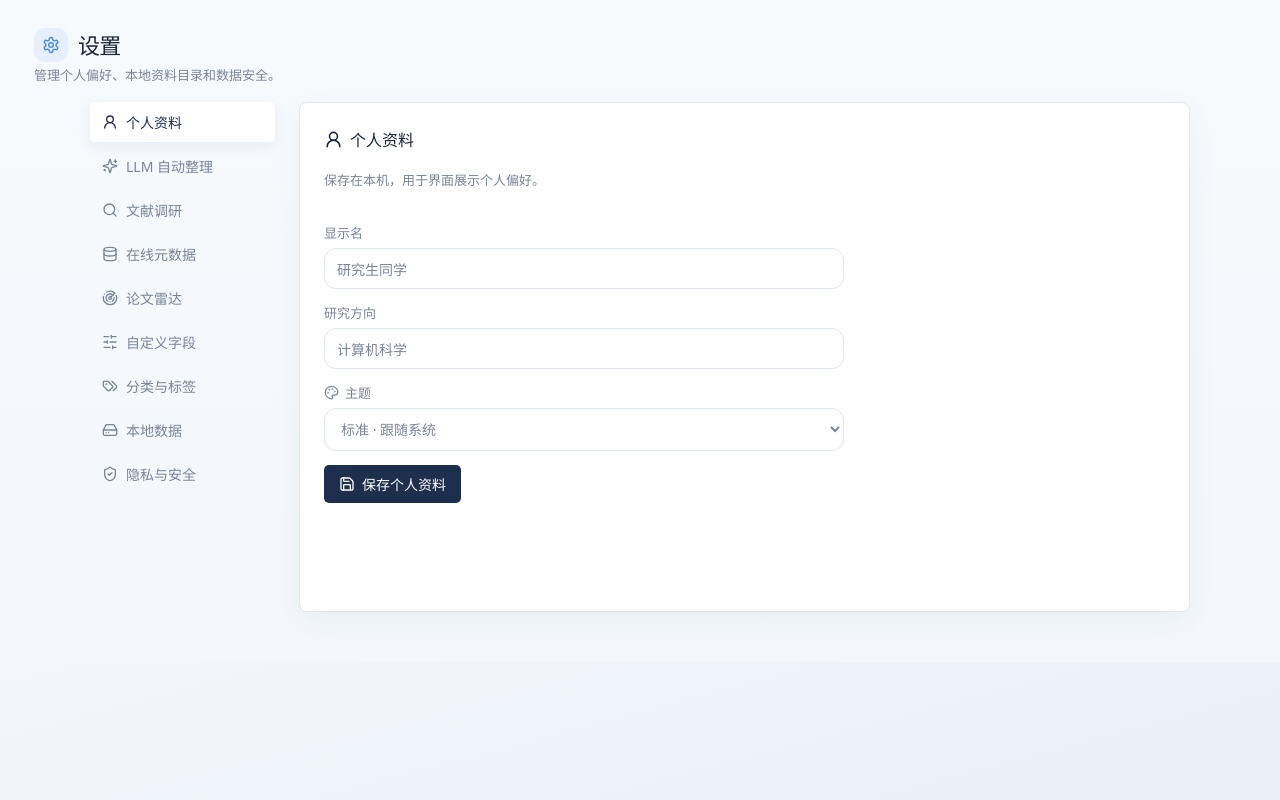
data settings errors › shows a restore error
Click the button "本地数据": (182, 430) [90,410,275,450]
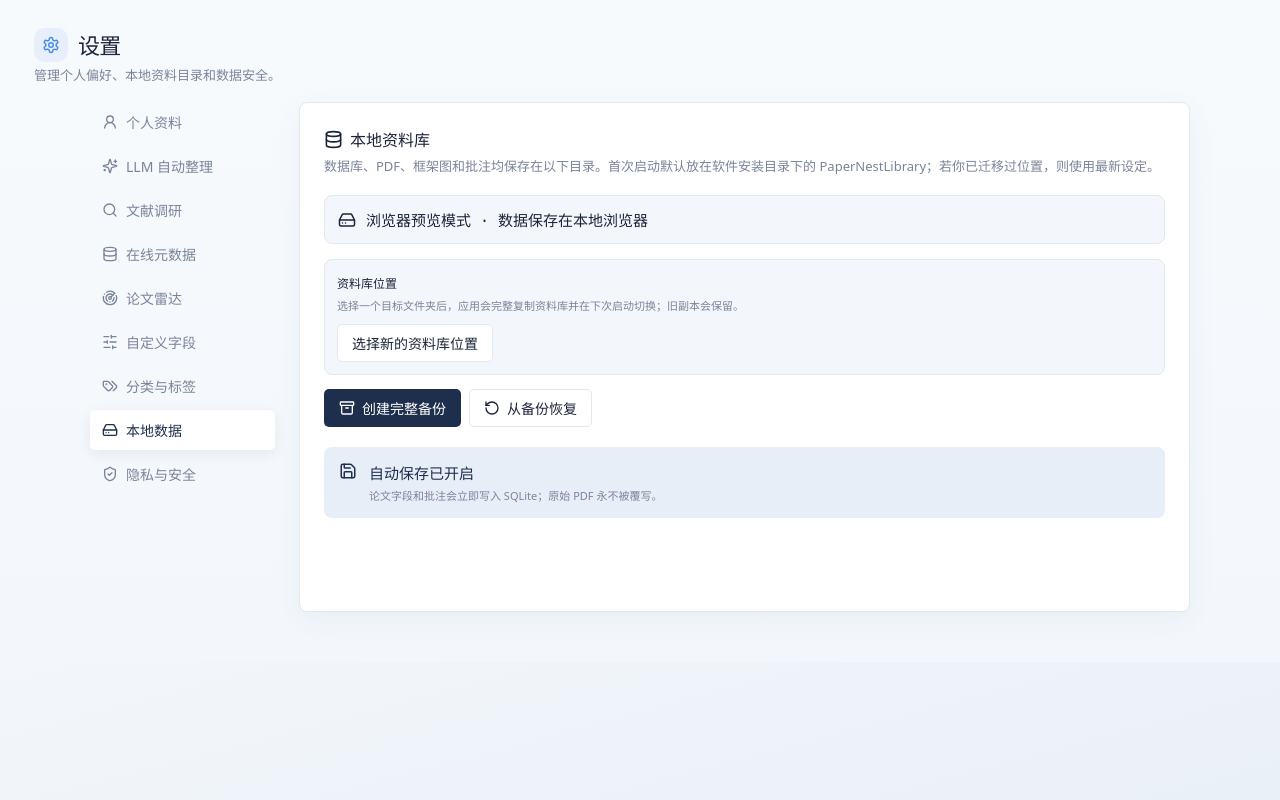
Click the button "从备份恢复": (530, 408) [469,389,592,427]
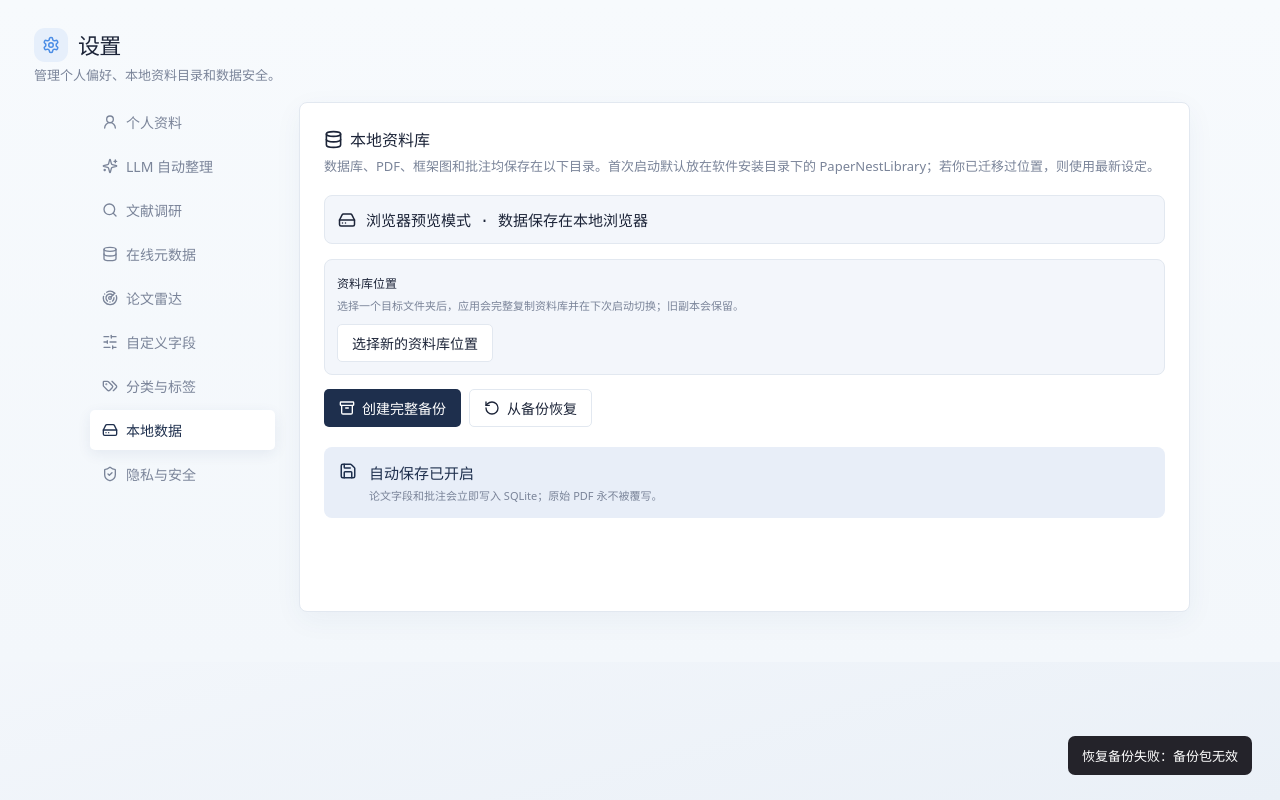
Expected: the text "恢复备份失败：备份包无效" is shown, [1068,736,1252,775]
